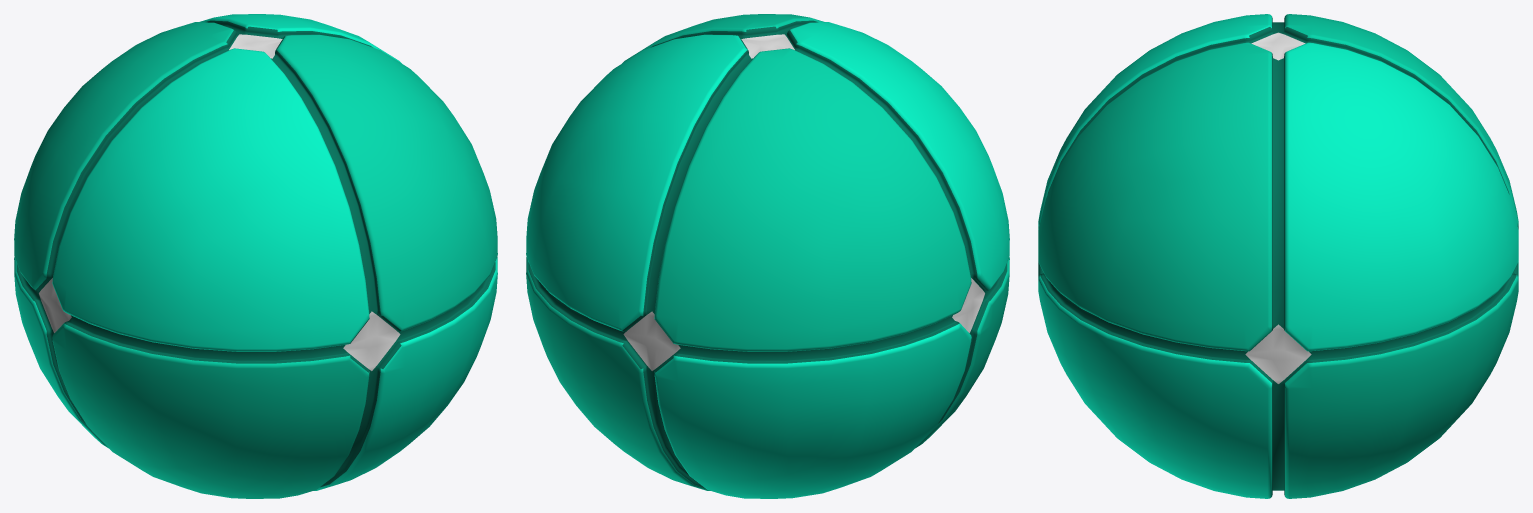
File: ball.glb
The picture shows the model from 3 angles, left to right: view 1: azimuth 30°, elevation 25°; view 2: azimuth 150°, elevation 25°; view 3: azimuth 270°, elevation 25°; orthographic projection.
Parts seen in each view (by area): view 1: new_ball_2_colors; view 2: new_ball_2_colors; view 3: new_ball_2_colors.
Part boxes in pixels (x1,y1,x2,y2): new_ball_2_colors: [14, 14, 497, 498]; new_ball_2_colors: [526, 14, 1009, 498]; new_ball_2_colors: [1038, 14, 1518, 498].
Bounding box in the file's own units: 0.4688 × 0.4688 × 0.4688.
